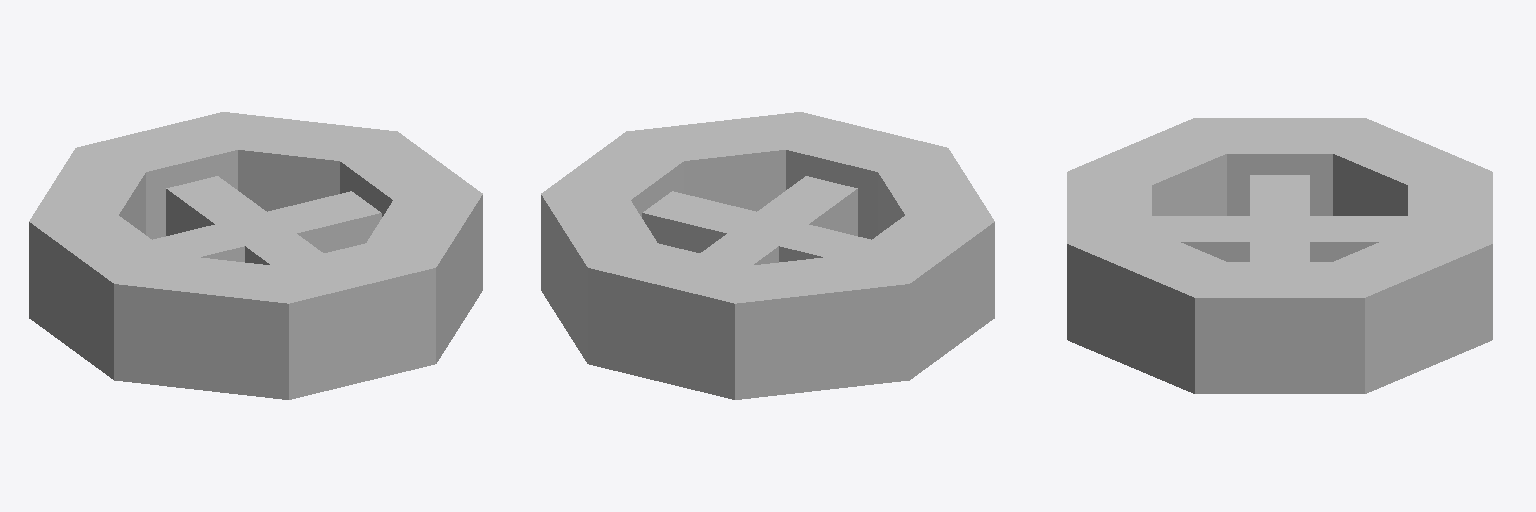
The model's file is valve.obj.
3 views of the same model, side by side, from view 1: azimuth 30°, elevation 25°; view 2: azimuth 150°, elevation 25°; view 3: azimuth 270°, elevation 25° (orthographic).
Parts seen in each view (by area): view 1: Cylinder; view 2: Cylinder; view 3: Cylinder.
Boxes of the visible parts, box(x1,y1,x2,y2) form: Cylinder: box(29, 112, 482, 399); Cylinder: box(541, 112, 994, 399); Cylinder: box(1067, 118, 1492, 393).
Size of the model in its own units: 2 by 0.5 by 2.